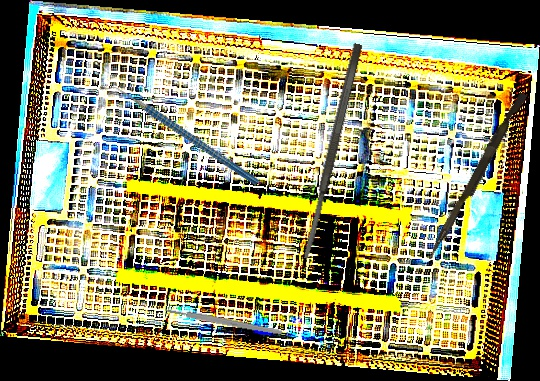Chopper: (98, 44, 261, 226)
Pusher: (426, 89, 528, 264)
Scalpel Handle: (166, 306, 283, 337)
Spatula Surgical: (299, 42, 365, 260)
